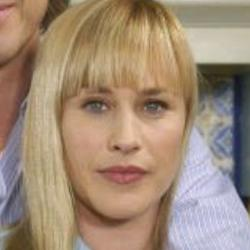face: (24, 1, 207, 231)
